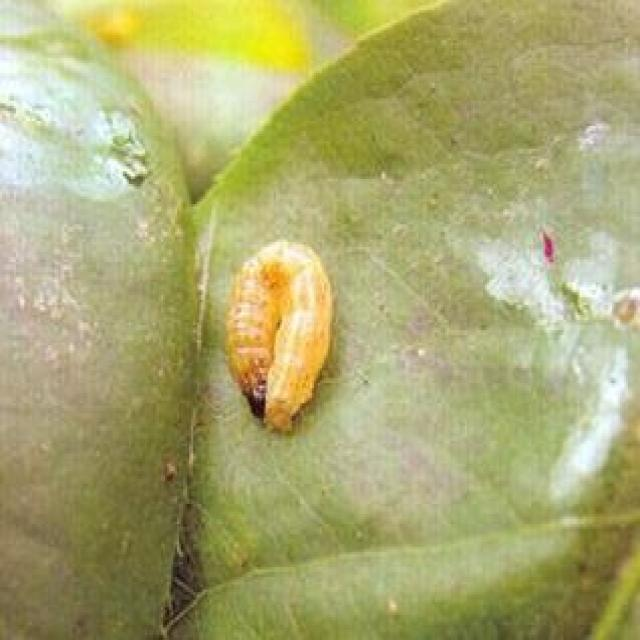peach borer: (222, 242, 335, 436)
